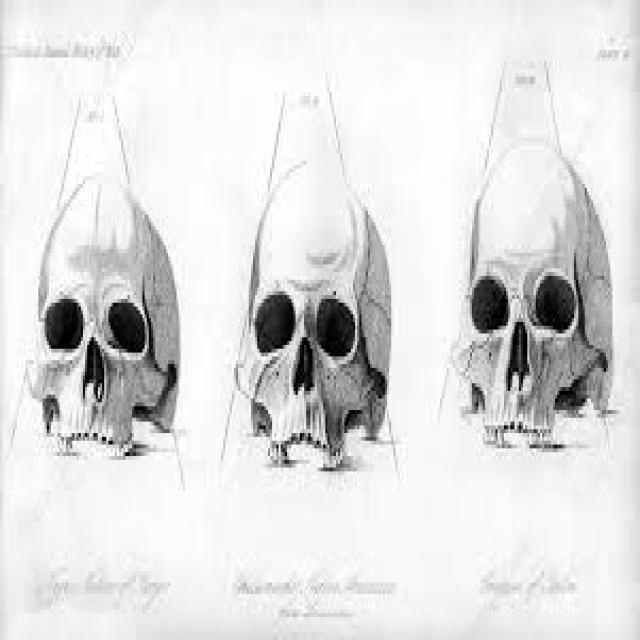skull: (223, 147, 407, 477)
